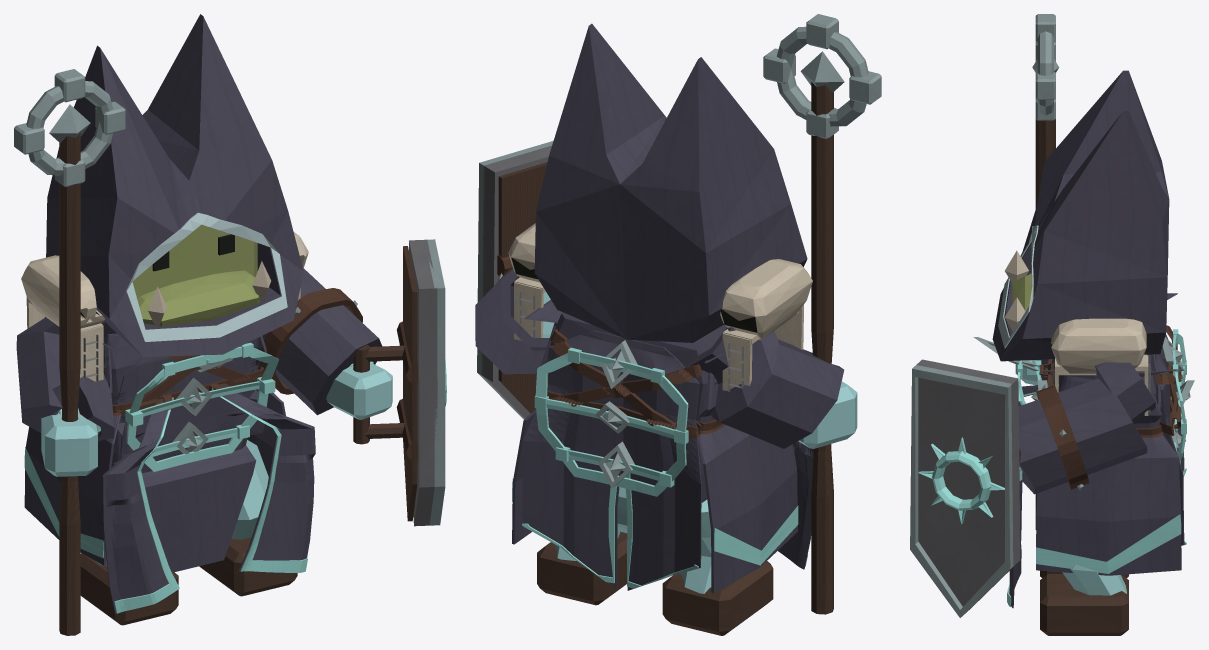
Rendered from host_31-wraith.glb.
3 views of the same model, side by side, from view 1: azimuth 30°, elevation 25°; view 2: azimuth 150°, elevation 25°; view 3: azimuth 270°, elevation 25° (orthographic). The views are drawn at different scales.
Parts seen in each view (by area): view 1: Pointed brown hood - hollow outer cloth, V4 actual charcoal center robe under three source seals, RIGHT source staff full actual handle, One continuous source skull, Long source front robe overlap 1, Long source front robe overlap -1, LEFT hollow outer cloth, RIGHT hollow outer cloth, LEFT actual source shield body, Source31w ENTIRE connected rigid cyan framework FRONT, V4 source real side falling robe 1, Whole source angular gold face opening perimeter (+24 smaller); view 2: Pointed brown hood - hollow outer cloth, Source hanging ragged rear cape, V4 source real side falling robe 1, RIGHT hollow outer cloth, RIGHT source staff full actual handle, Source31w ENTIRE connected rigid cyan framework BACK, Exactly two source shoulder bone talismans 1, RIGHT source planted boot, LEFT hollow outer cloth, LEFT source actual wooden inner shield, LEFT actual source shield body, LEFT source planted boot (+23 smaller); view 3: Pointed brown hood - hollow outer cloth, LEFT actual source shield body, V4 source real side falling robe -1, LEFT hollow outer cloth, LEFT source shield outer edge, Exactly two source shoulder bone talismans -1, LEFT source planted boot, Source full side robe gold boundary -1, LEFT actual broad leather forearm shield retaining loop, Source outer shield actual sun ring, LEFT source short joined leg, RIGHT source staff full actual handle (+12 smaller).
Part boxes in pixels (x1,y1,x2,y2): Pointed brown hood - hollow outer cloth: [46, 14, 303, 356]; V4 actual charcoal center robe under three source seals: [113, 342, 264, 572]; RIGHT source staff full actual handle: [59, 133, 80, 635]; One continuous source skull: [132, 224, 259, 326]; Long source front robe overlap 1: [102, 396, 172, 613]; Long source front robe overlap -1: [220, 384, 315, 572]; LEFT hollow outer cloth: [262, 268, 381, 415]; RIGHT hollow outer cloth: [16, 317, 116, 441]; LEFT actual source shield body: [409, 239, 437, 526]; Source31w ENTIRE connected rigid cyan framework FRONT: [125, 342, 278, 471]; V4 source real side falling robe 1: [24, 343, 120, 565]; Whole source angular gold face opening perimeter: [126, 212, 287, 341]; Pointed brown hood - hollow outer cloth: [534, 23, 807, 342]; Source hanging ragged rear cape: [522, 330, 701, 590]; V4 source real side falling robe 1: [697, 353, 797, 592]; RIGHT hollow outer cloth: [684, 327, 844, 448]; RIGHT source staff full actual handle: [811, 82, 833, 614]; Source31w ENTIRE connected rigid cyan framework BACK: [534, 347, 688, 496]; Exactly two source shoulder bone talismans 1: [720, 259, 812, 339]; RIGHT source planted boot: [662, 561, 773, 635]; LEFT hollow outer cloth: [475, 269, 549, 374]; LEFT source actual wooden inner shield: [498, 162, 547, 413]; LEFT actual source shield body: [481, 145, 551, 418]; LEFT source planted boot: [537, 531, 627, 605]; Pointed brown hood - hollow outer cloth: [992, 70, 1169, 361]; LEFT actual source shield body: [916, 359, 1020, 613]; V4 source real side falling robe -1: [1036, 369, 1181, 575]; LEFT hollow outer cloth: [1018, 362, 1155, 494]; LEFT source shield outer edge: [910, 365, 1013, 617]; Exactly two source shoulder bone talismans -1: [1051, 318, 1146, 375]; LEFT source planted boot: [1040, 574, 1128, 635]; Source full side robe gold boundary -1: [1036, 514, 1181, 573]; LEFT actual broad leather forearm shield retaining loop: [1036, 385, 1089, 489]; Source outer shield actual sun ring: [932, 451, 991, 510]; LEFT source short joined leg: [1062, 564, 1126, 595]; RIGHT source staff full actual handle: [1035, 119, 1055, 529].
Size of the model in its own units: 1.4 by 1.9 by 0.9473.
Materials: 16 (13 with a texture image).
